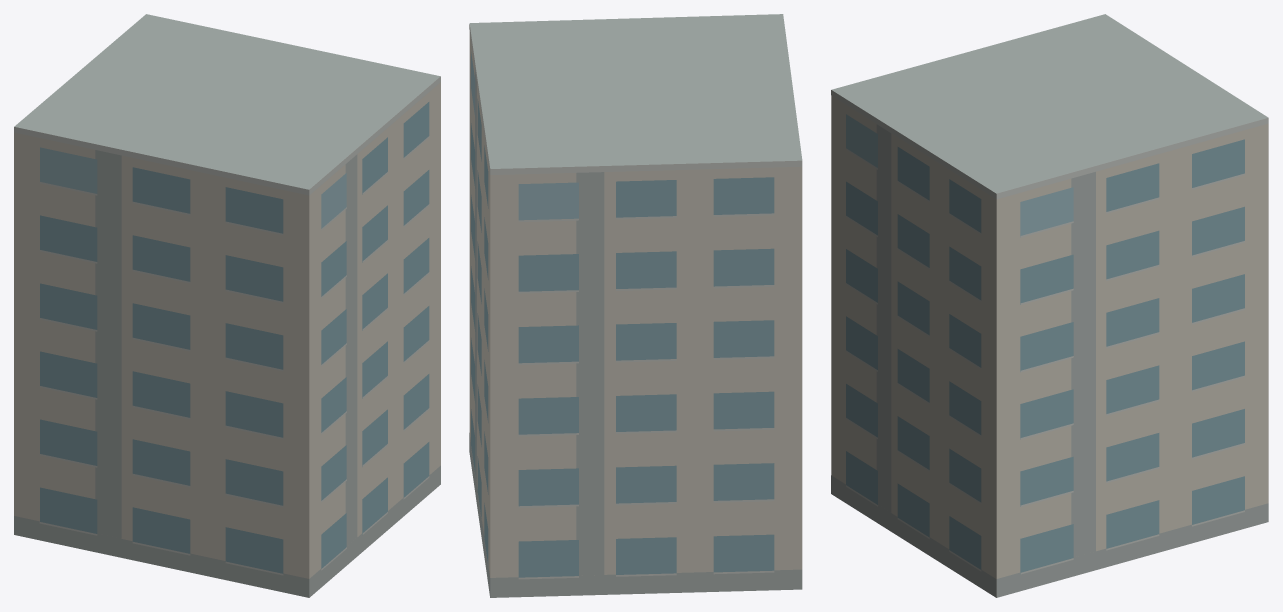
The model's file is survey-upis-32584901.glb.
3 renders of one model, left to right at view 1: azimuth 30°, elevation 25°; view 2: azimuth 150°, elevation 25°; view 3: azimuth 270°, elevation 25°, orthographic. The views are drawn at different scales.
Visible parts, largest first — view 1: survey-upis-32584901.tmp; view 2: survey-upis-32584901.tmp; view 3: survey-upis-32584901.tmp.
Part boxes in pixels (left/top/right/bottom): survey-upis-32584901.tmp: left=14, top=14, right=440, bottom=597; survey-upis-32584901.tmp: left=469, top=14, right=802, bottom=597; survey-upis-32584901.tmp: left=831, top=14, right=1268, bottom=597.
Size of the model in its own units: 16.41 by 17.2 by 16.88.
